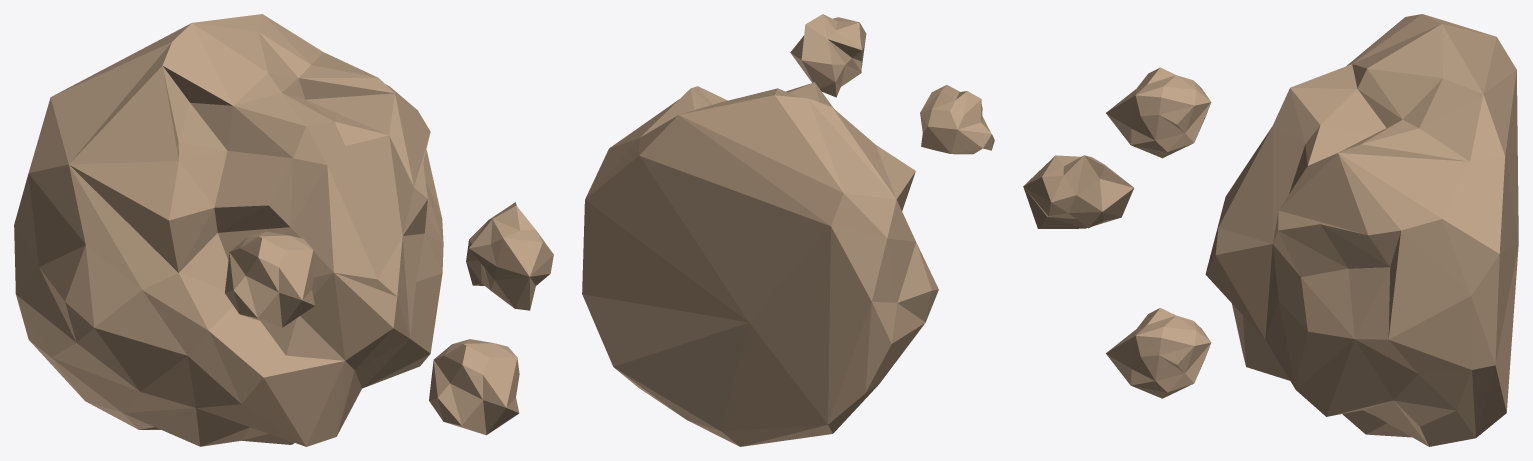
File: AstroidTile_1.fbx
3 renders of one model, left to right at view 1: azimuth 30°, elevation 25°; view 2: azimuth 150°, elevation 25°; view 3: azimuth 270°, elevation 25°, orthographic. The views are drawn at different scales.
Visible parts, largest first — view 1: Astroid; view 2: Astroid; view 3: Astroid.
Part boxes in pixels (box(x1,y1,x2,y2)): Astroid: box(14, 14, 553, 446); Astroid: box(582, 14, 994, 446); Astroid: box(1023, 14, 1518, 446).
Bounding box in the file's own units: 0.939 × 0.9777 × 1.13.
